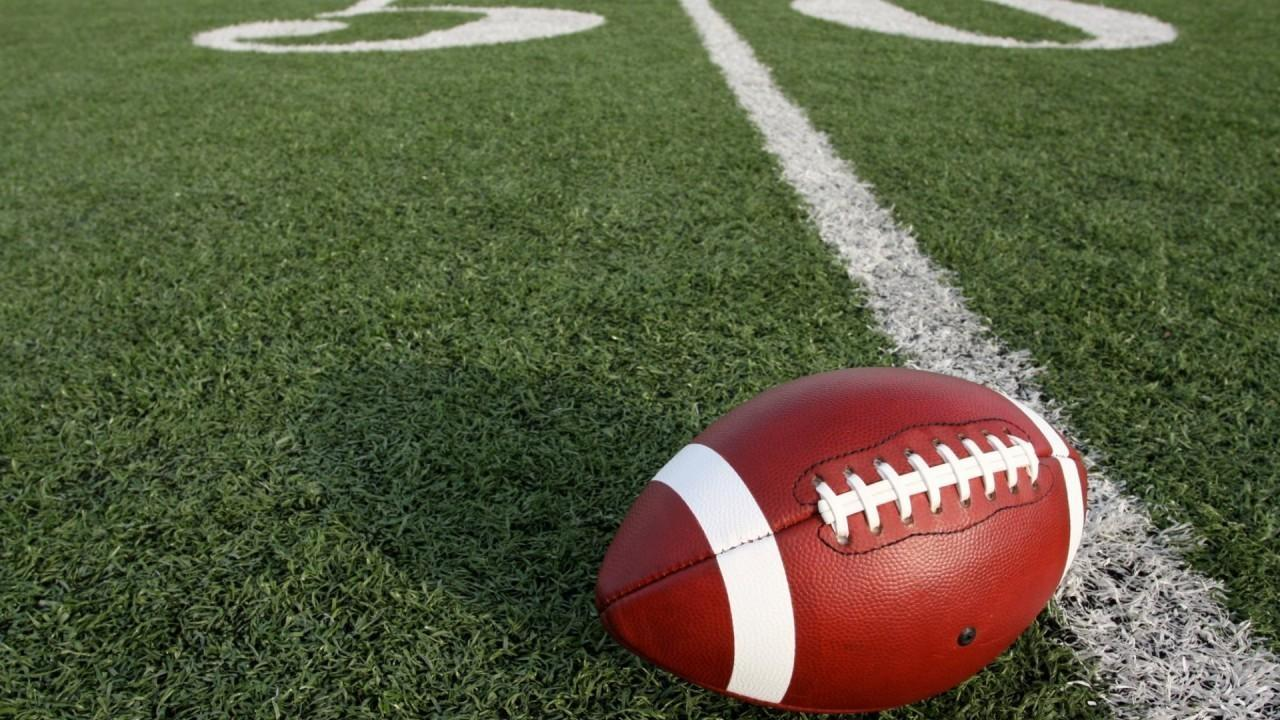Sports-Ball: (595, 368, 1085, 710)
